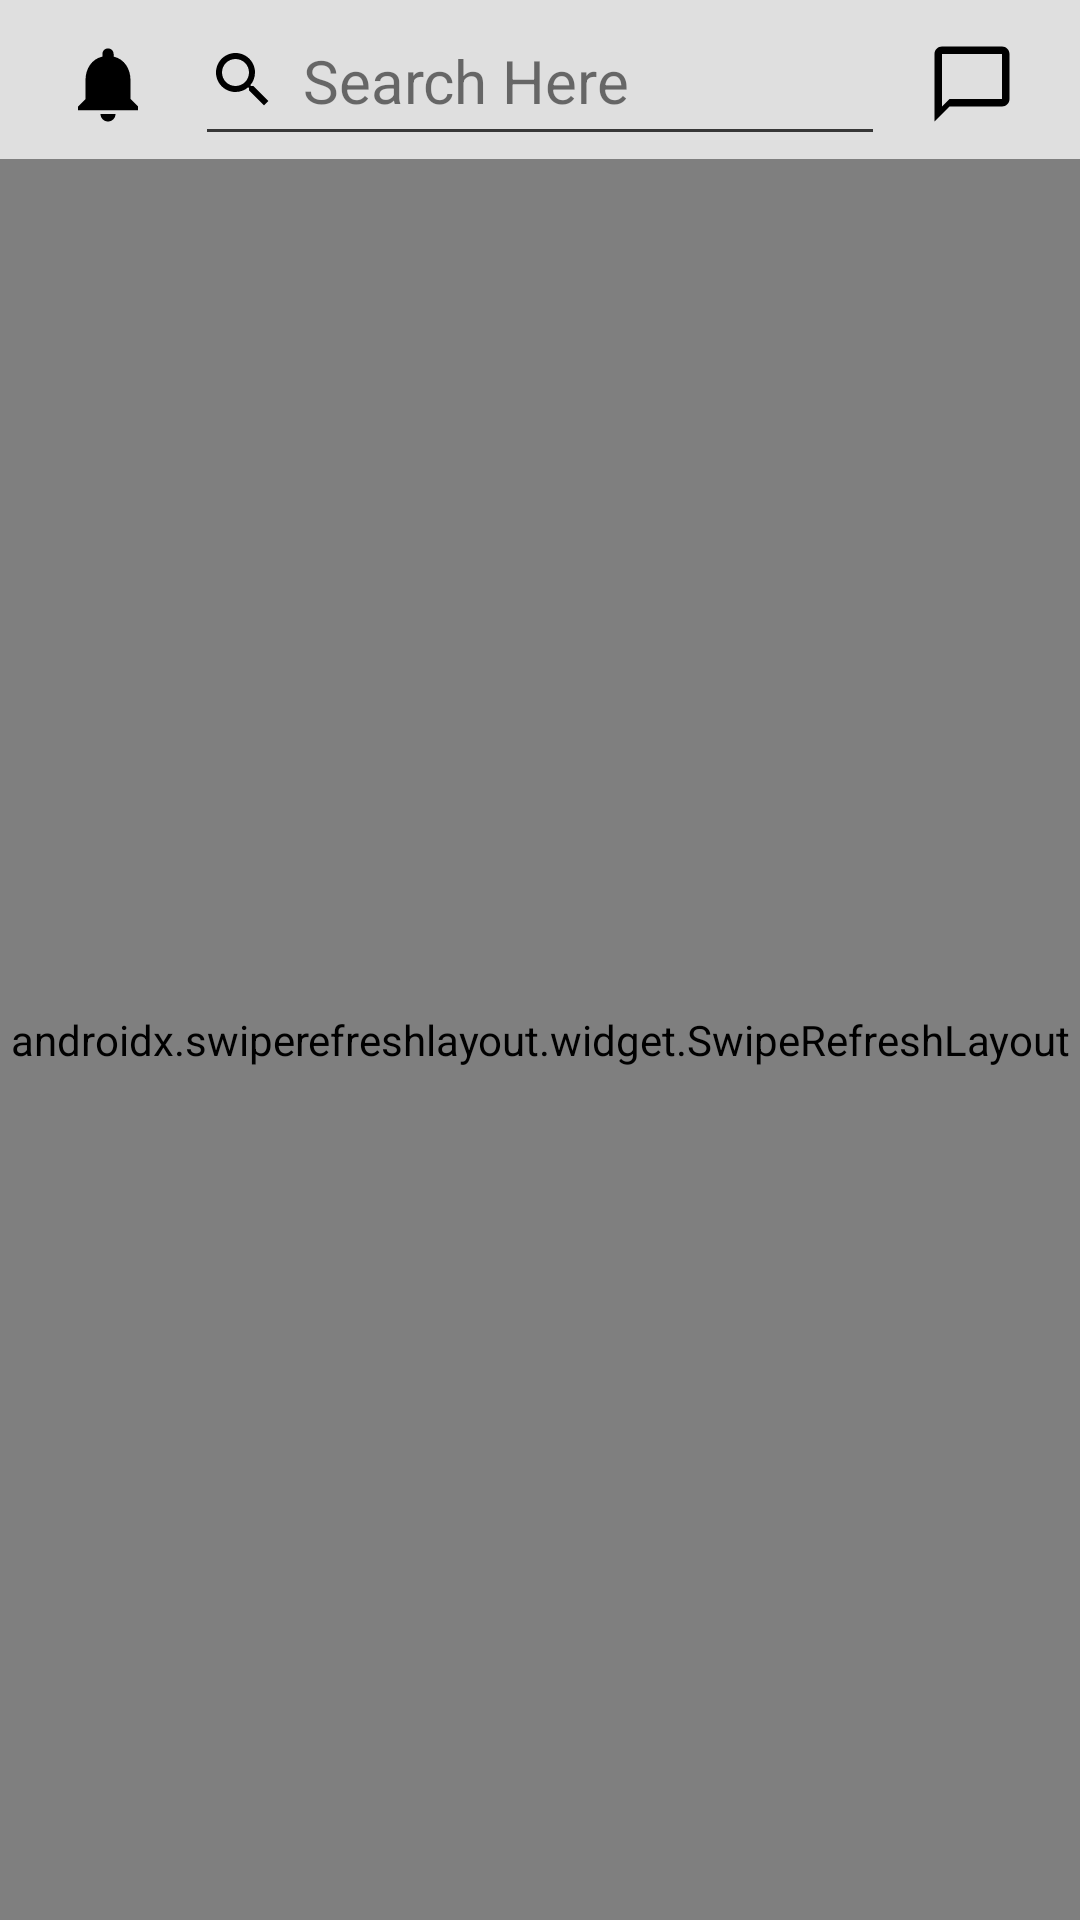

Screen size 1080x1920. Icon name, then its center in pixels as point (x, y):
chat bubble: point (972, 84)
notifications: point (108, 85)
